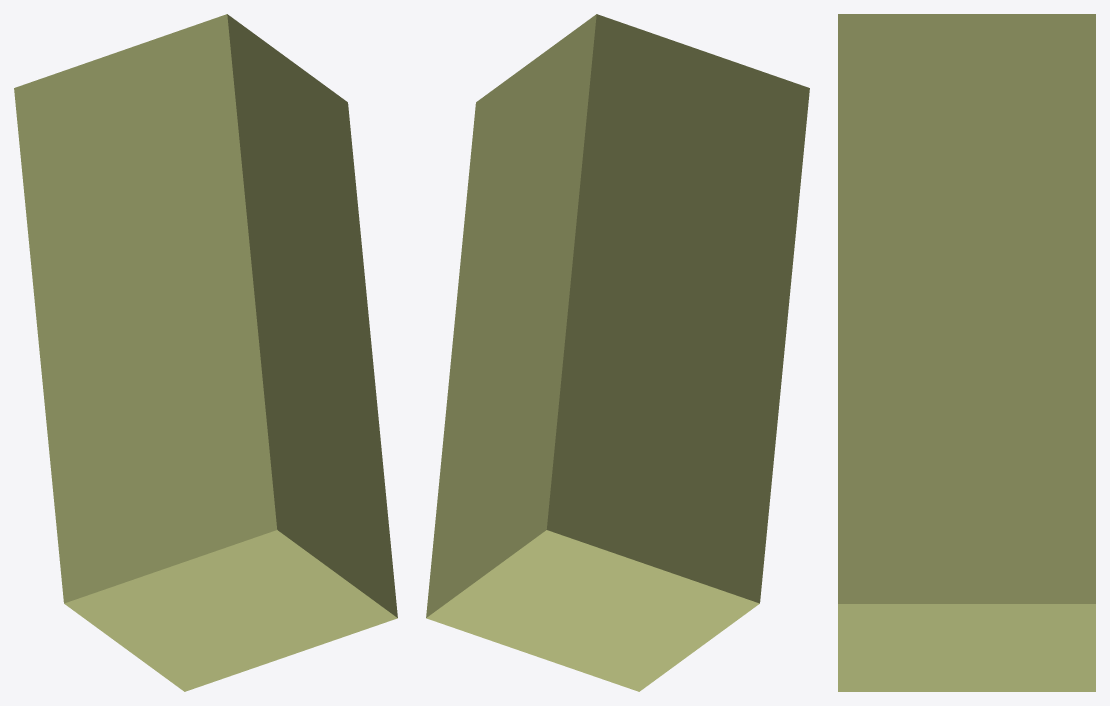
3 renders of one model, left to right at view 1: azimuth 30°, elevation 25°; view 2: azimuth 150°, elevation 25°; view 3: azimuth 270°, elevation 25°, orthographic. The views are drawn at different scales.
Parts seen in each view (by area): view 1: 0_3_0_1_2_2_1_0_1_3; view 2: 0_3_0_1_2_2_1_0_1_3; view 3: 0_3_0_1_2_2_1_0_1_3.
Part boxes in pixels (box(x1,y1,x2,y2)): 0_3_0_1_2_2_1_0_1_3: box(14, 14, 397, 691); 0_3_0_1_2_2_1_0_1_3: box(426, 14, 809, 691); 0_3_0_1_2_2_1_0_1_3: box(838, 14, 1095, 691).
Size of the model in its own units: 7.55 by 15.07 by 6.
